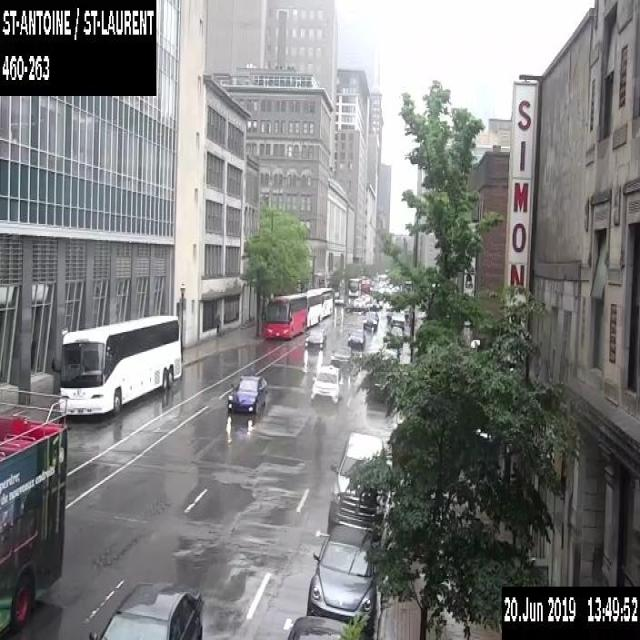bus: (0, 386, 66, 638), (58, 314, 181, 416), (263, 292, 306, 338), (297, 290, 321, 327), (310, 286, 332, 318), (348, 277, 360, 296)
vehicle: (306, 524, 378, 635), (87, 580, 204, 639), (326, 430, 391, 536), (284, 613, 364, 639), (226, 373, 268, 413), (310, 363, 341, 402), (330, 344, 354, 366), (304, 327, 326, 348), (378, 342, 401, 360), (348, 328, 366, 348), (363, 310, 378, 332), (390, 308, 404, 329), (390, 325, 402, 337), (334, 290, 344, 304), (353, 296, 363, 309), (369, 298, 379, 310), (344, 297, 353, 308)
